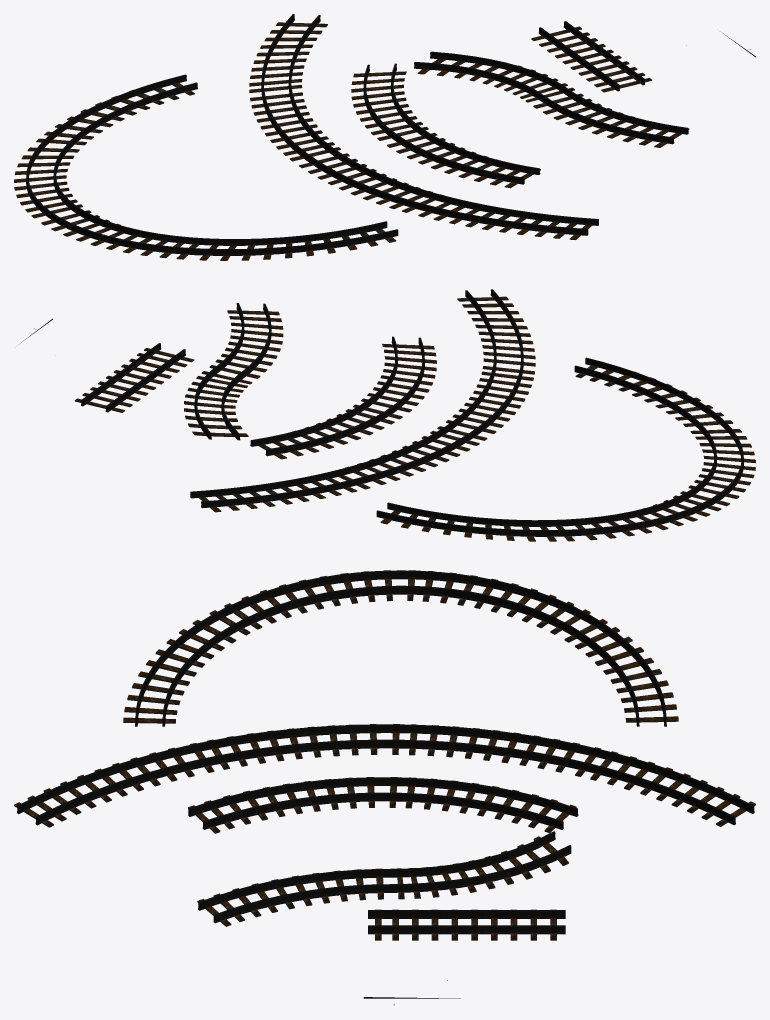
Rendered from straightT.gltf.
The picture shows the model from 3 angles, top to bottom: view 1: azimuth 30°, elevation 25°; view 2: azimuth 150°, elevation 25°; view 3: azimuth 270°, elevation 25°; orthographic projection. The views are drawn at different scales.
Visible parts, largest first — view 1: Track_01polySurface161_lambert1_0; view 2: Track_01polySurface161_lambert1_0; view 3: Track_01polySurface161_lambert1_0.
Part boxes in pixels (<box>): Track_01polySurface161_lambert1_0: <box>14,14,689,260</box>; Track_01polySurface161_lambert1_0: <box>74,289,755,541</box>; Track_01polySurface161_lambert1_0: <box>14,570,755,940</box>.
Size of the model in its own units: 589 by 16.39 by 425.
1 material, 1 textured.
